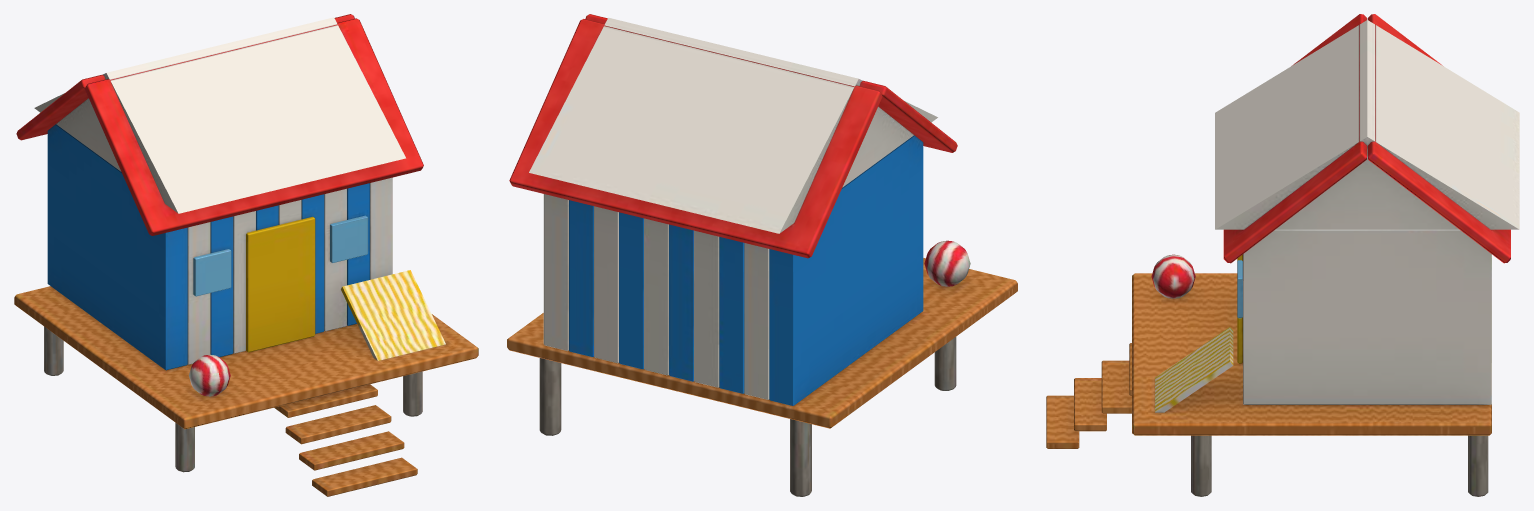
File: beach_hut.glb
3 renders of one model, left to right at view 1: azimuth 30°, elevation 25°; view 2: azimuth 150°, elevation 25°; view 3: azimuth 270°, elevation 25°, orthographic. The views are drawn at different scales.
Parts seen in each view (by area): view 1: beach_hut; view 2: beach_hut; view 3: beach_hut.
Part boxes in pixels (x1,y1,x2,y2): beach_hut: (14,14,478,496); beach_hut: (507,14,1017,496); beach_hut: (1046,14,1519,496).
Size of the model in its own units: 1.3 by 1.42 by 1.71.
Materials: 1 (1 with a texture image).
